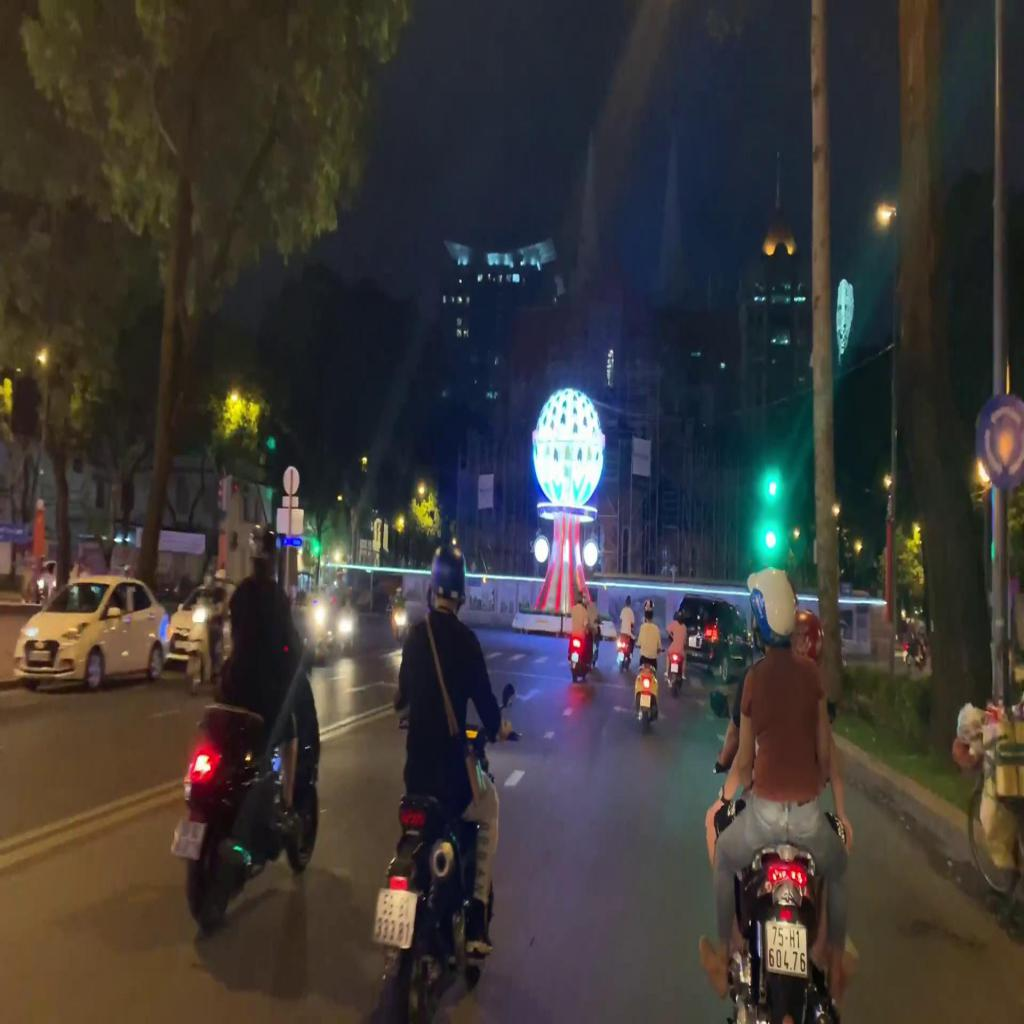noi_giao_nhau_chay_theo_vong: (974, 392, 1023, 486)
